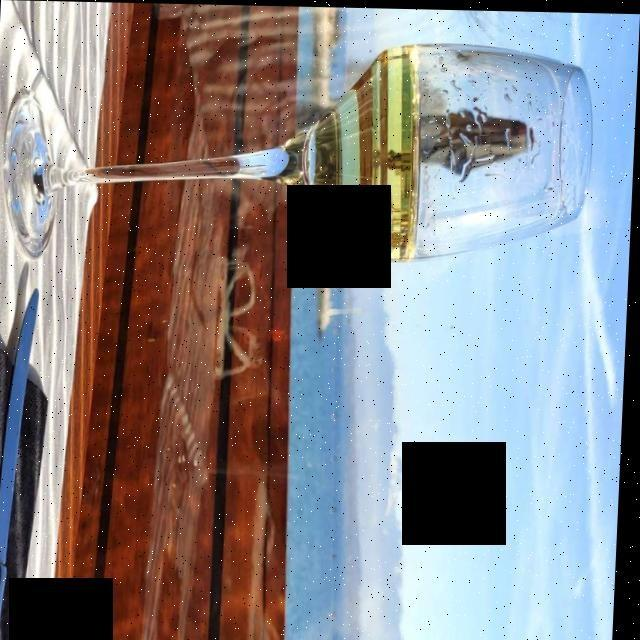wine: (316, 46, 423, 254)
